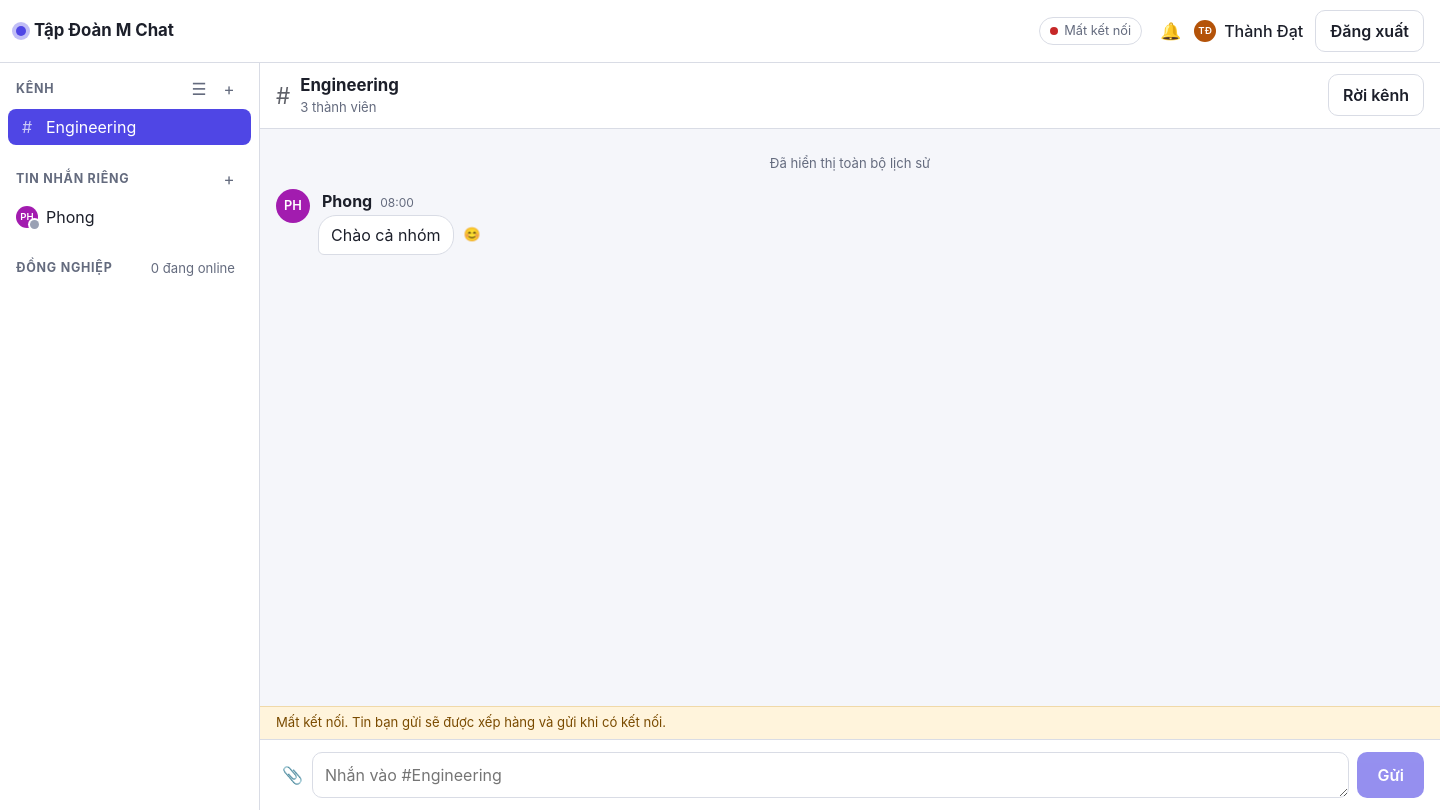
Test case: danh sách phòng (F03/F04) › rời kênh thì quay về màn hình tham gia
Click the button "Rời kênh" at (1376, 95), box [1328,74,1424,116]
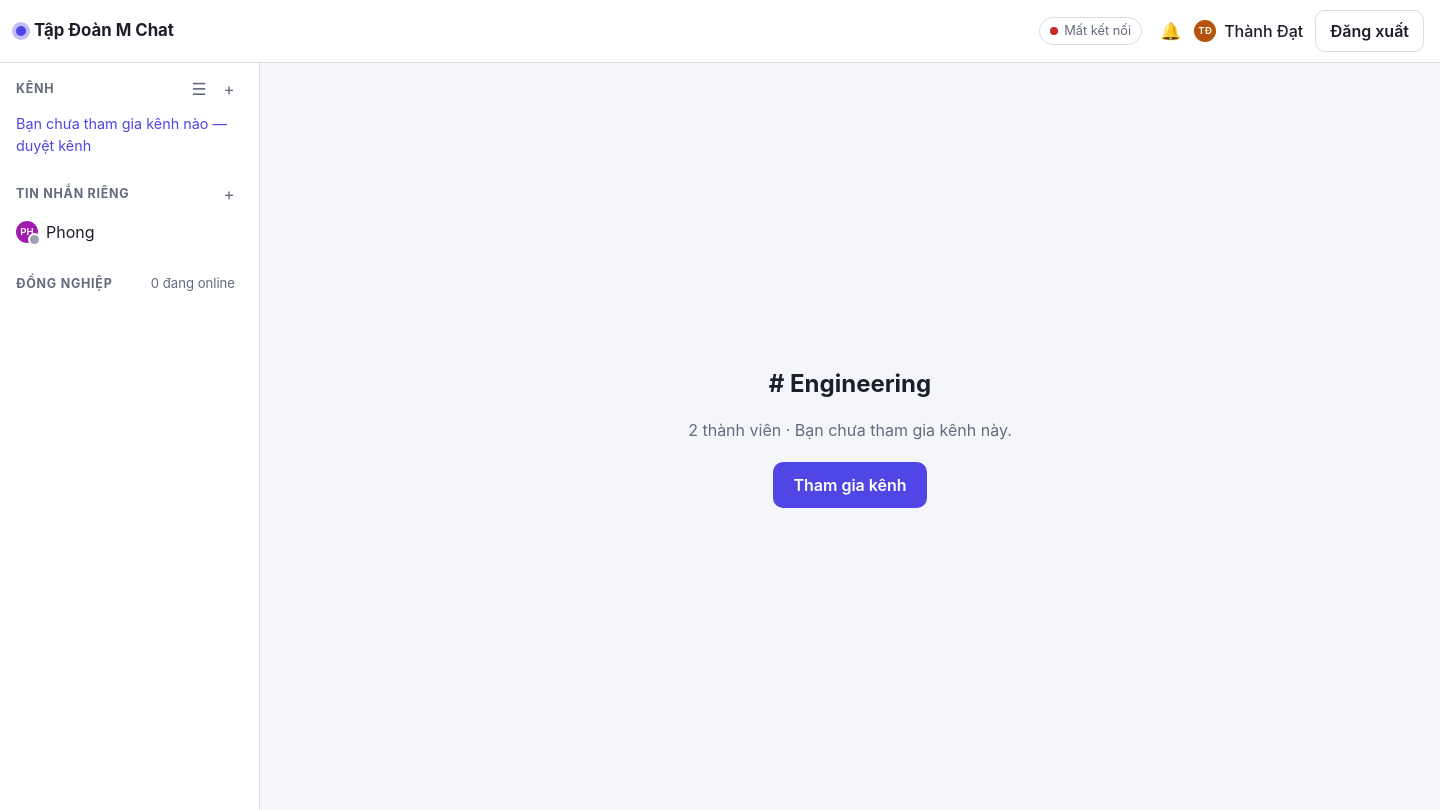
Expected: the button "Tham gia kênh" is shown, [773,462,927,508]
